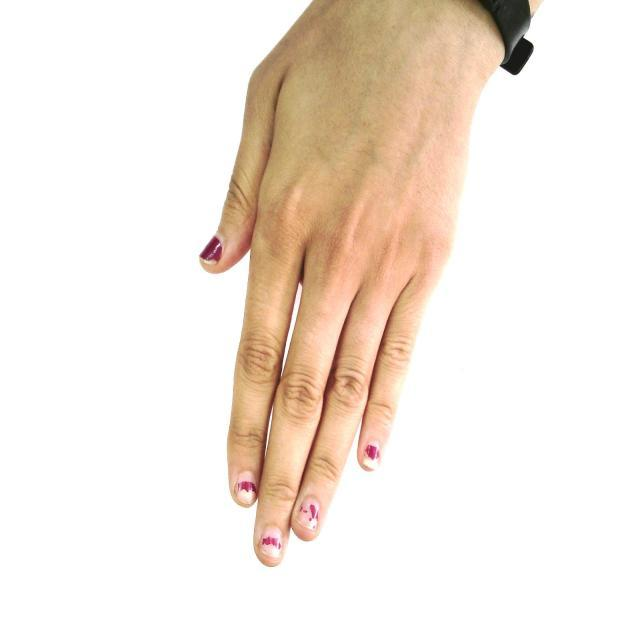Fingernail: (260, 527, 283, 562), (295, 497, 318, 530), (236, 473, 256, 505), (200, 237, 221, 261), (364, 442, 380, 467)
